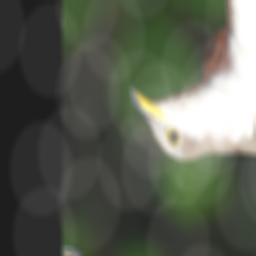Cuckoo: (121, 7, 256, 235)
